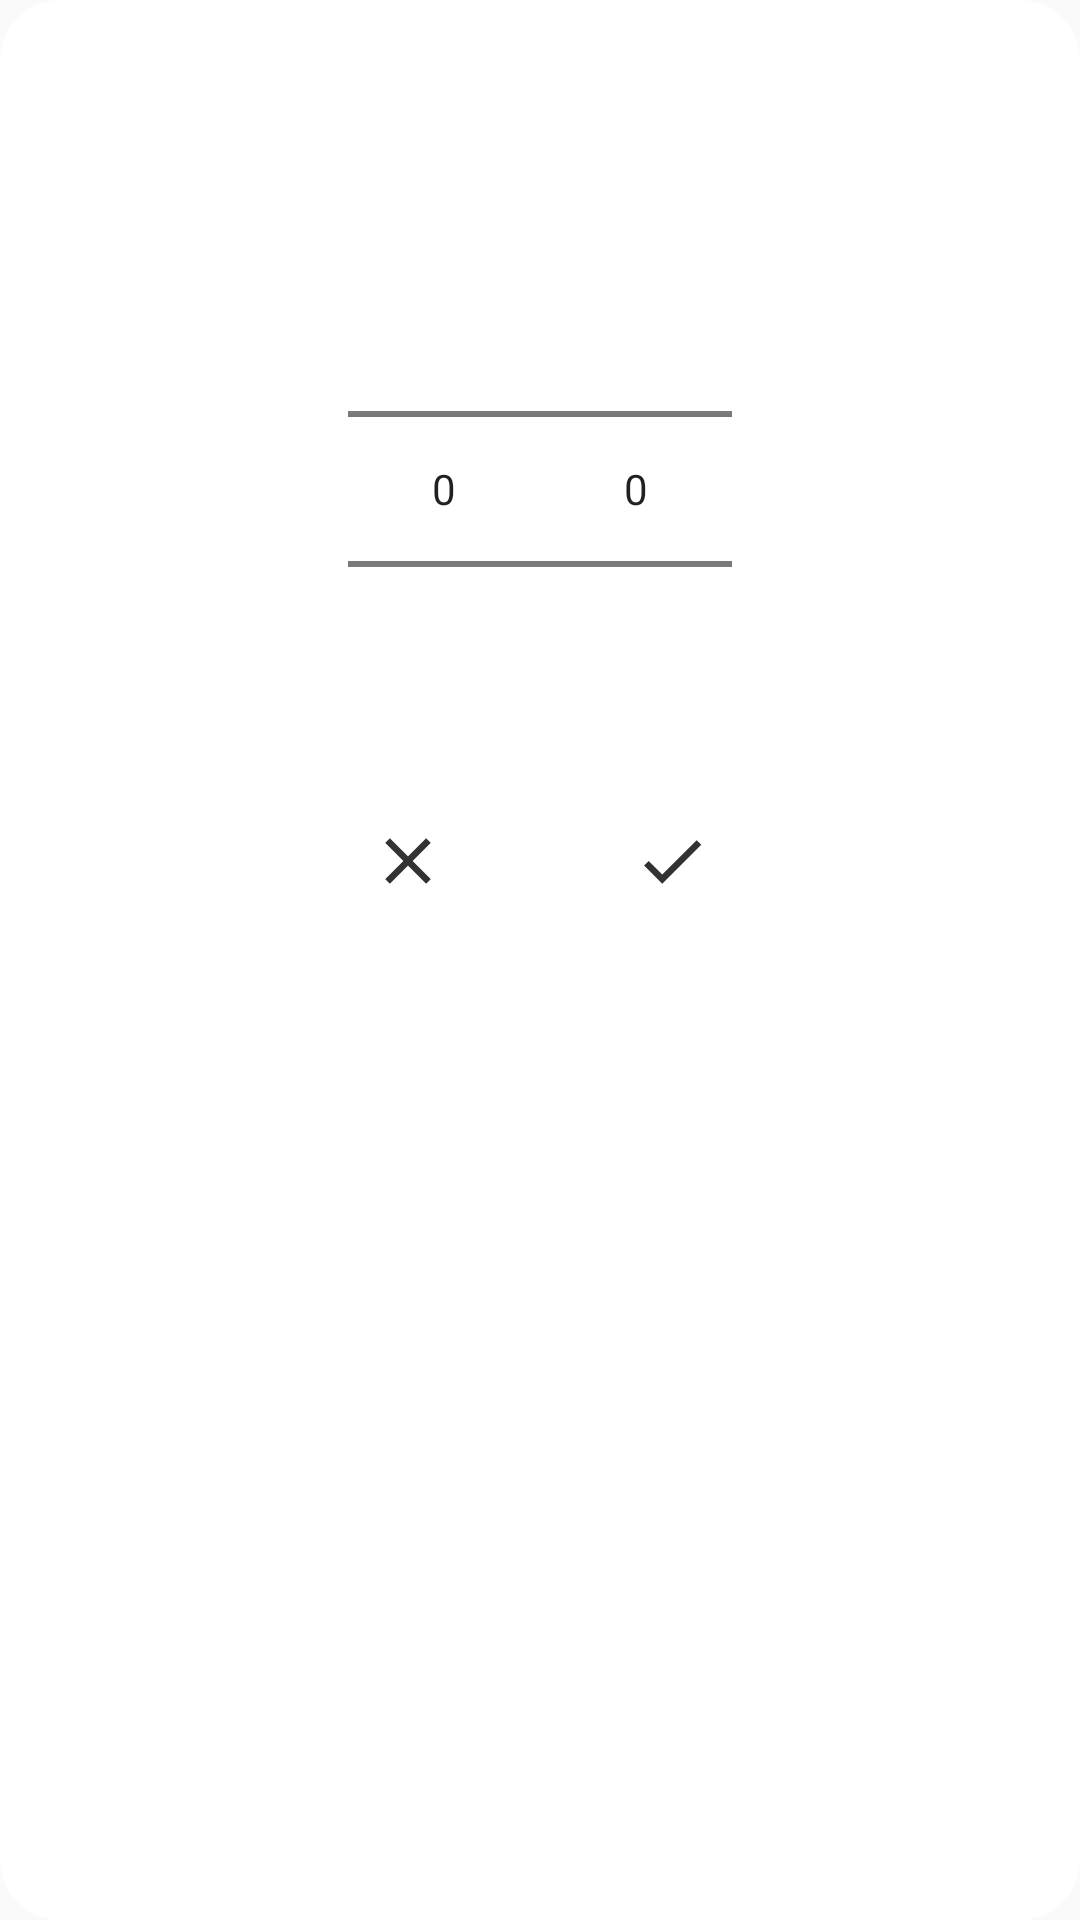

Icon bounding boxes for this 1080px×1920px phone screenshot, format (x1, y1, x2, y2):
Cancel: (385, 838, 431, 884)
OK: (644, 840, 701, 884)
